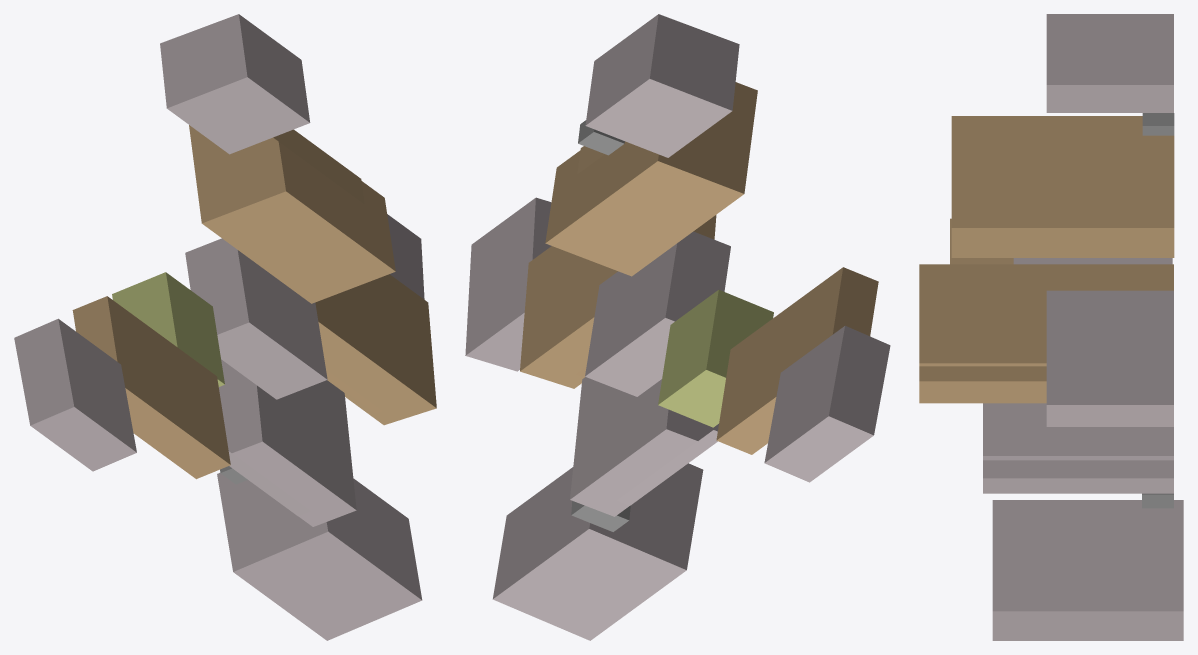
3 views of the same model, side by side, from view 1: azimuth 30°, elevation 25°; view 2: azimuth 150°, elevation 25°; view 3: azimuth 270°, elevation 25° (orthographic). The views are drawn at different scales.
Parts seen in each view (by area): view 1: 0_2_3_3_3_0_2_3_0; view 2: 0_2_3_3_3_0_2_3_0; view 3: 0_2_3_3_3_0_2_3_0.
Part boxes in pixels (left/top/right/bottom): 0_2_3_3_3_0_2_3_0: left=14, top=14, right=436, bottom=640; 0_2_3_3_3_0_2_3_0: left=465, top=14, right=890, bottom=640; 0_2_3_3_3_0_2_3_0: left=919, top=14, right=1183, bottom=640.
Size of the model in its own units: 38.76 by 59.24 by 24.92.
